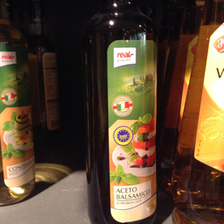vinegar: (87, 1, 161, 224), (1, 20, 36, 210)
